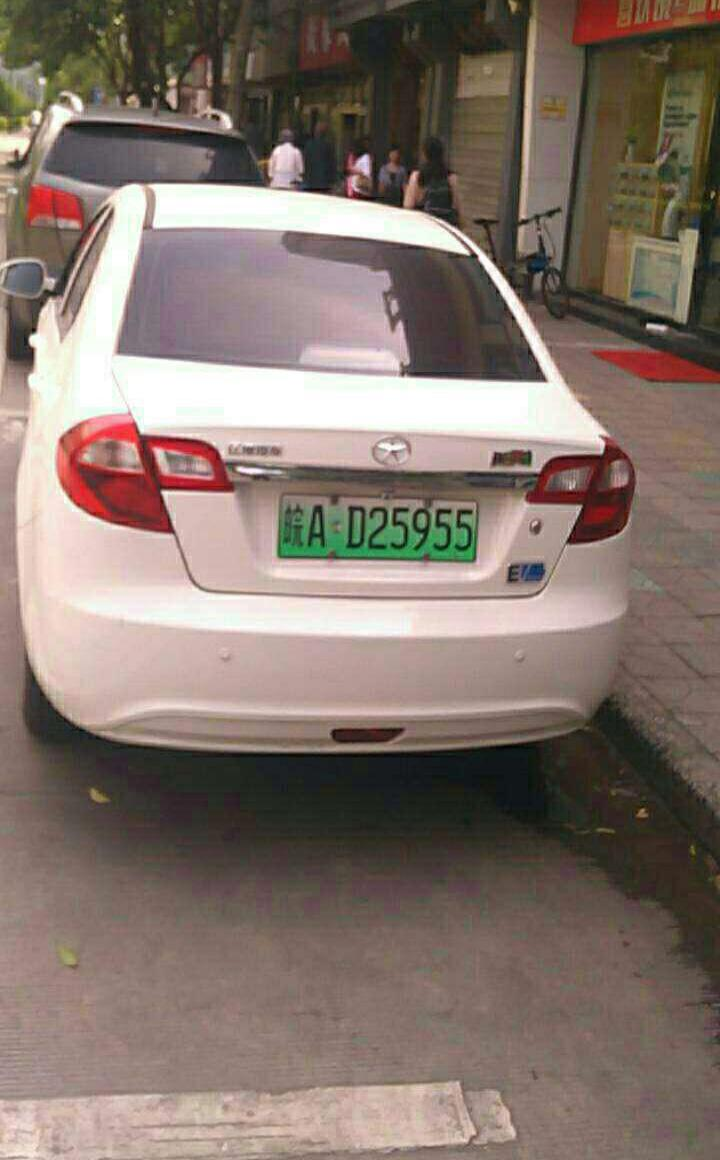car_id: (276, 490, 480, 559)
